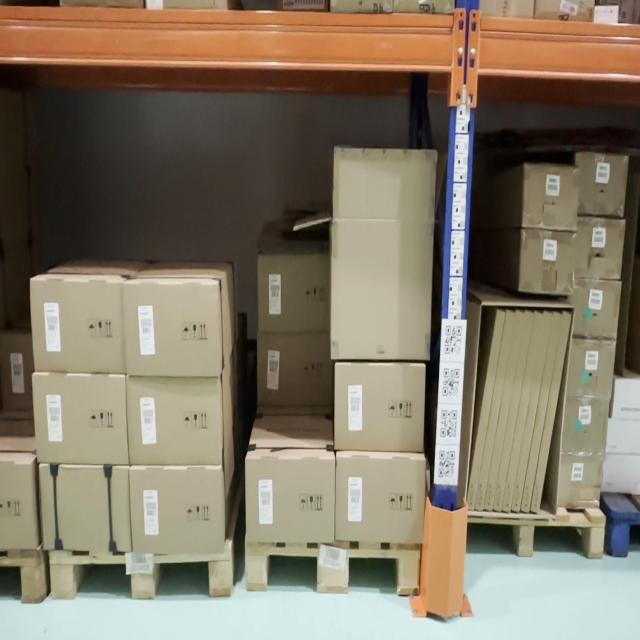box: (335, 146, 429, 359), (530, 312, 572, 513), (521, 312, 562, 513), (493, 311, 534, 512), (502, 311, 543, 511), (35, 281, 124, 372), (475, 309, 515, 511), (484, 310, 524, 511), (128, 284, 216, 375), (512, 312, 552, 512), (467, 309, 505, 512), (38, 375, 125, 462), (131, 378, 219, 463), (336, 366, 423, 450), (134, 469, 221, 551), (247, 460, 334, 541), (43, 467, 127, 549), (337, 461, 424, 539), (259, 257, 328, 330), (260, 334, 329, 404), (522, 164, 578, 231), (520, 230, 576, 295), (576, 154, 628, 217), (575, 217, 625, 280), (573, 279, 622, 340), (567, 339, 615, 399), (562, 397, 609, 455), (557, 455, 604, 507), (0, 465, 30, 545), (601, 455, 640, 495), (605, 419, 640, 454), (612, 379, 640, 420)
